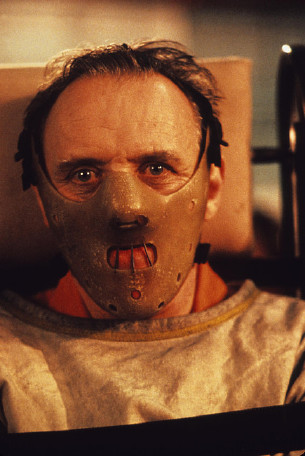face: (44, 80, 198, 320)
